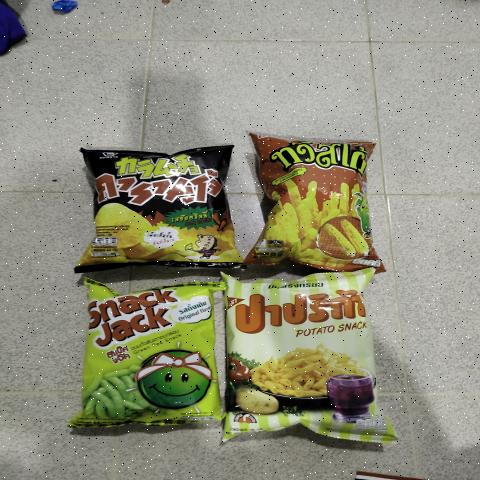karamujo: (83, 151, 233, 265)
paprika: (229, 286, 373, 438)
snack_jack: (80, 291, 209, 424)
twisco: (253, 135, 374, 267)
